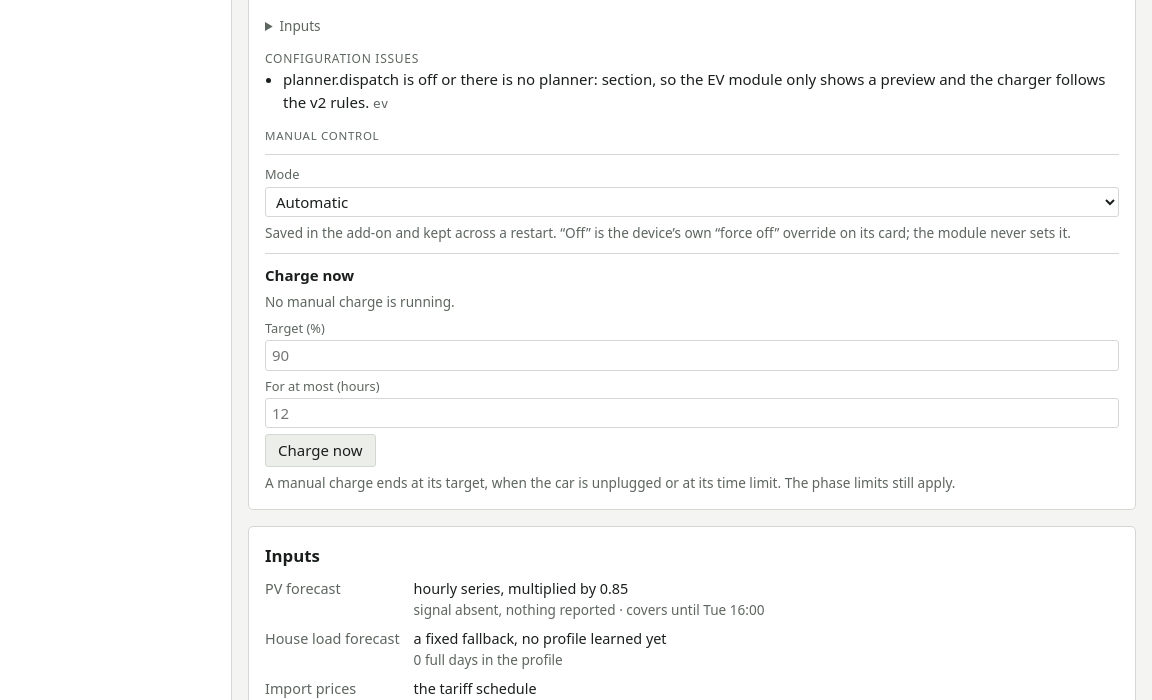
it: EV card: the manual control (S6) › refuses the target abc before asking the add-on
(page scrolled)
Type "abc" into the field labelled "Target (%)" at (692, 355), box [265,340,1119,370]
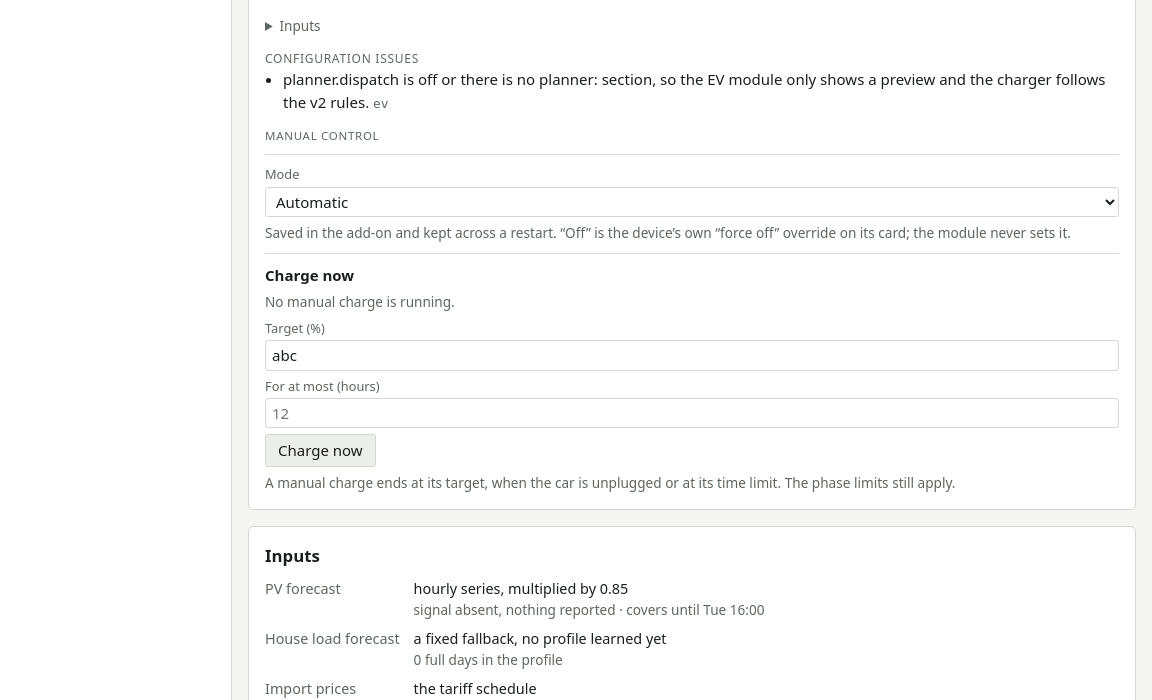
Submit the form, box [265,253,1119,493]
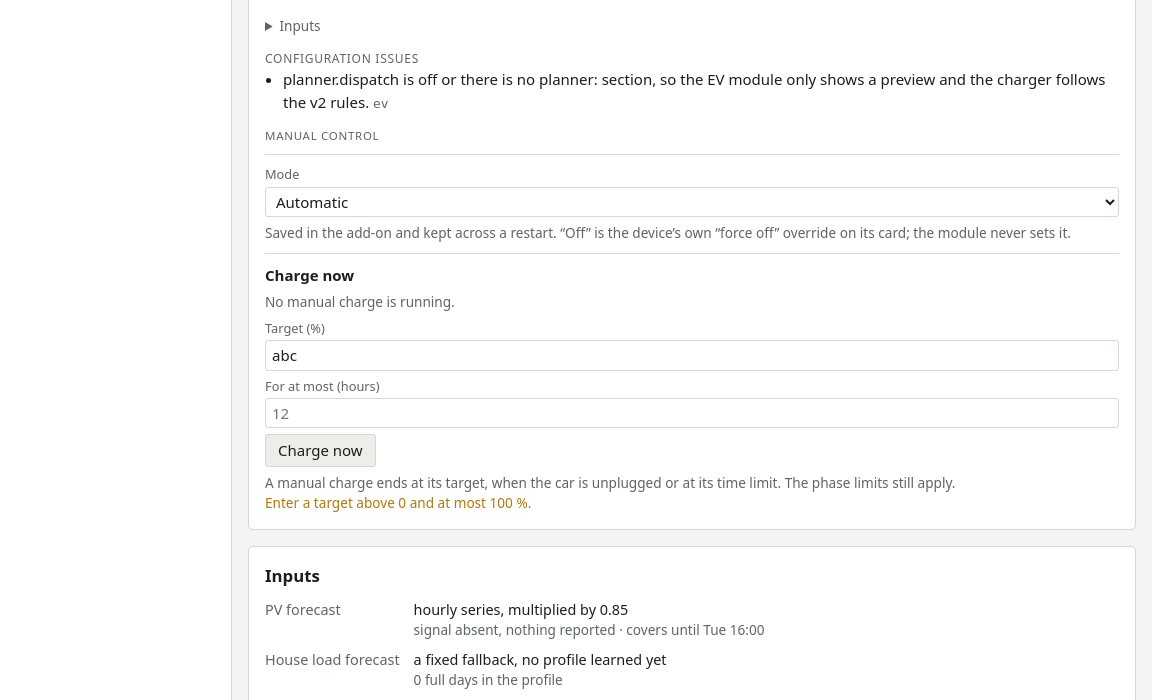
Result: the message "Enter a target above 0 and at most 100 %." is shown at [265,493,531,512]
